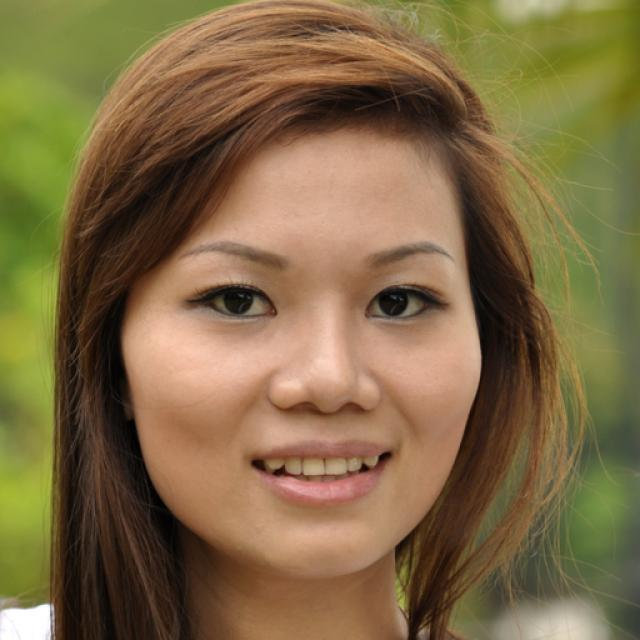happy: (122, 121, 486, 579)
